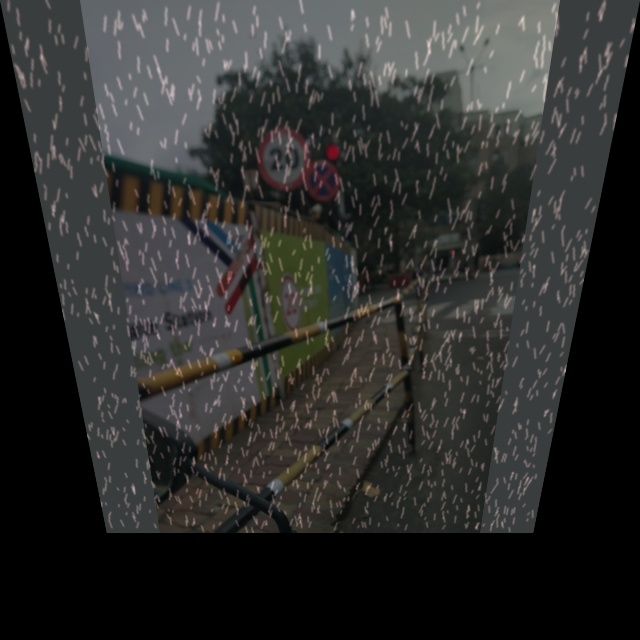Speed_Limit_20: (253, 127, 310, 187)
